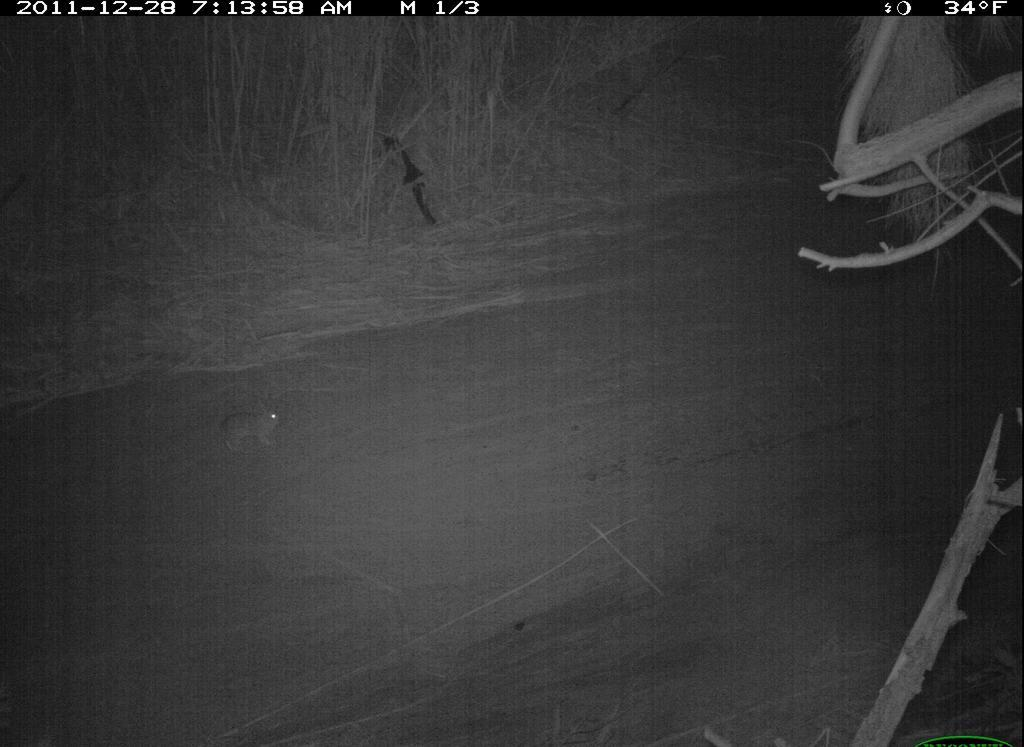rabbit: (209, 388, 291, 456)
